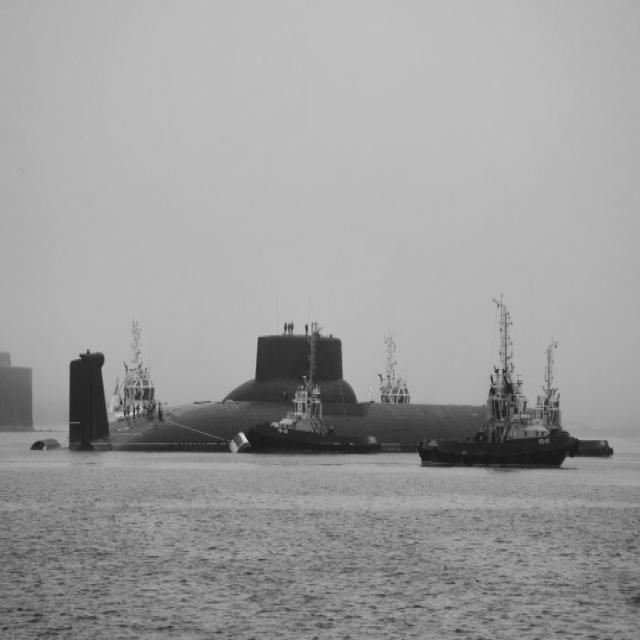submarine: (73, 336, 489, 451)
